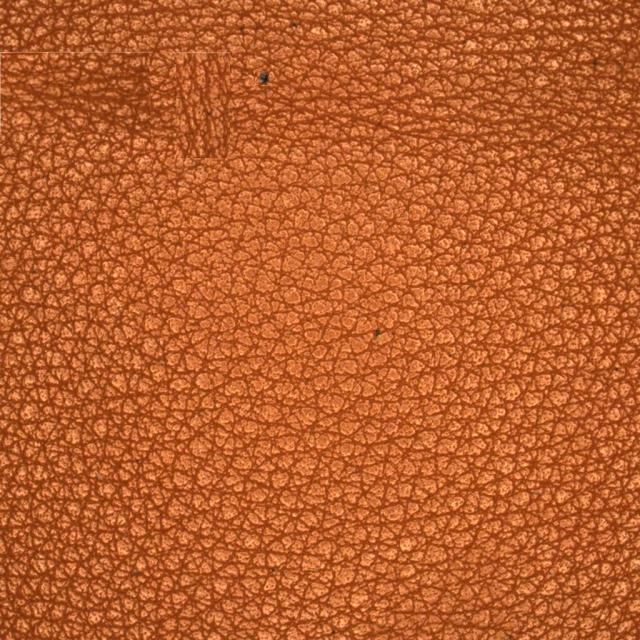Healed Injury: (162, 25, 346, 237)
pinhole: (200, 21, 319, 131)
